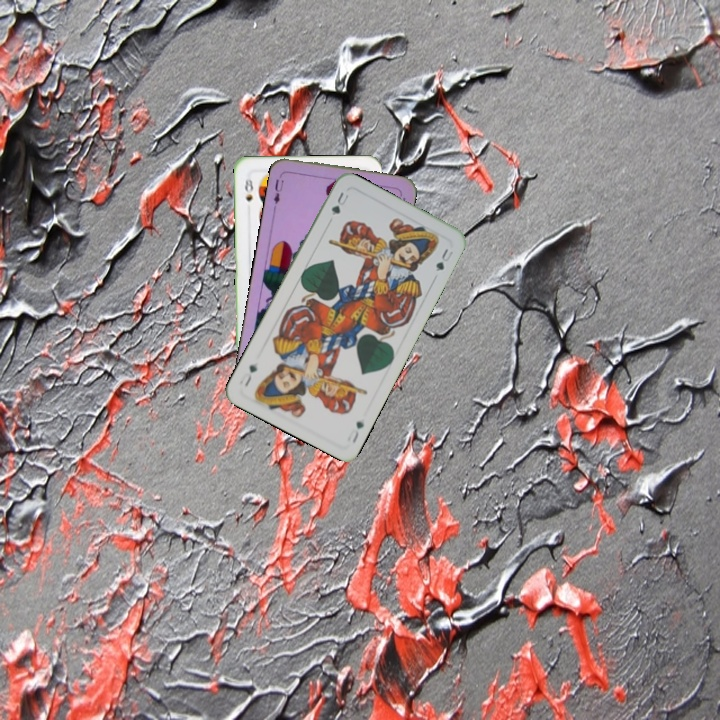EU: (270, 169, 286, 210)
GU: (327, 188, 351, 219), (343, 417, 367, 446)
S8: (241, 175, 256, 204)
